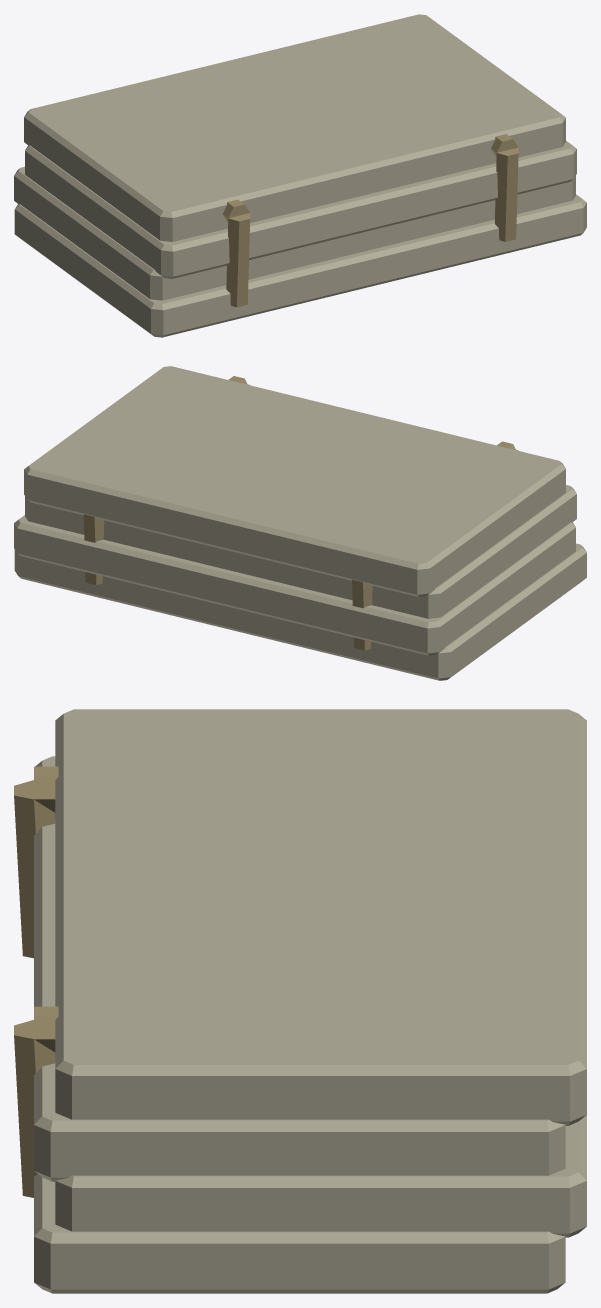
Rendered from folded-mat.glb.
The picture shows the model from 3 angles, top to bottom: view 1: azimuth 30°, elevation 25°; view 2: azimuth 150°, elevation 25°; view 3: azimuth 270°, elevation 25°; orthographic projection. The views are drawn at different scales.
Visible parts, largest first — view 1: folded-mat__body; view 2: folded-mat__body; view 3: folded-mat__body.
Part boxes in pixels (box(x1,y1,x2,y2)): folded-mat__body: box(14, 14, 586, 337); folded-mat__body: box(14, 366, 586, 680); folded-mat__body: box(14, 709, 586, 1293).
Size of the model in its own units: 0.3588 by 0.0925 by 0.223.
